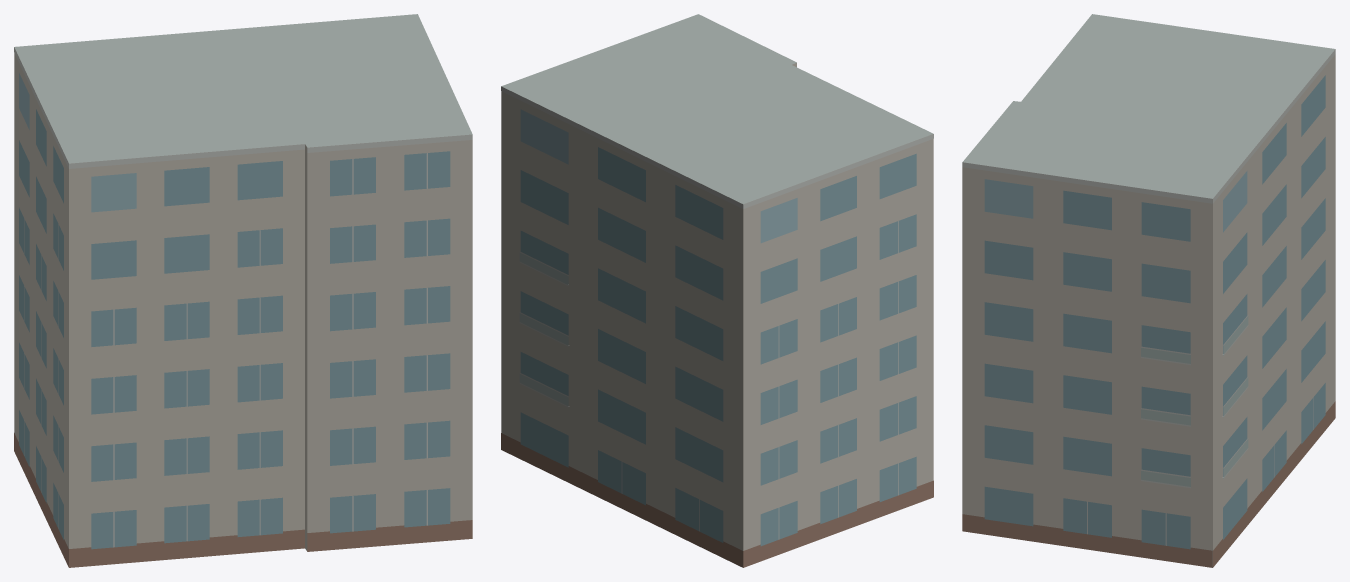
File: survey-upis-33025204.glb
The picture shows the model from 3 angles, left to right: view 1: azimuth 30°, elevation 25°; view 2: azimuth 150°, elevation 25°; view 3: azimuth 270°, elevation 25°; orthographic projection. The views are drawn at different scales.
Parts seen in each view (by area): view 1: survey-upis-33025204.tmp; view 2: survey-upis-33025204.tmp; view 3: survey-upis-33025204.tmp.
Part boxes in pixels (x1,y1,x2,y2): survey-upis-33025204.tmp: [14, 14, 472, 567]; survey-upis-33025204.tmp: [501, 14, 933, 567]; survey-upis-33025204.tmp: [962, 14, 1335, 567].
Bounding box in the file's own units: 19.67 × 18.3 × 16.78.
